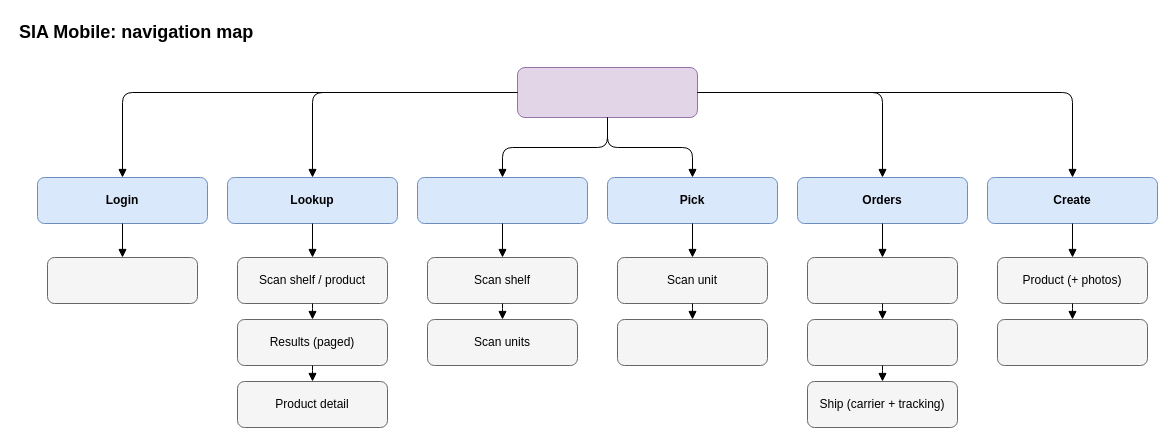
Some shapes in this 1175 by 445 pixel diagram are drawn without their labels. The shapes that lost their labels are listed below. From the top down, each one's box as (x1, y1, x2, y2) in pixels, then its label:
(516, 66, 698, 118): SIA Mobile (staff)
(416, 176, 588, 224): Stow
(46, 256, 198, 304): Secure token storage
(806, 256, 958, 304): Approved requests
(616, 318, 768, 366): Reason
(806, 318, 958, 366): Pick order
(996, 318, 1148, 366): Location
